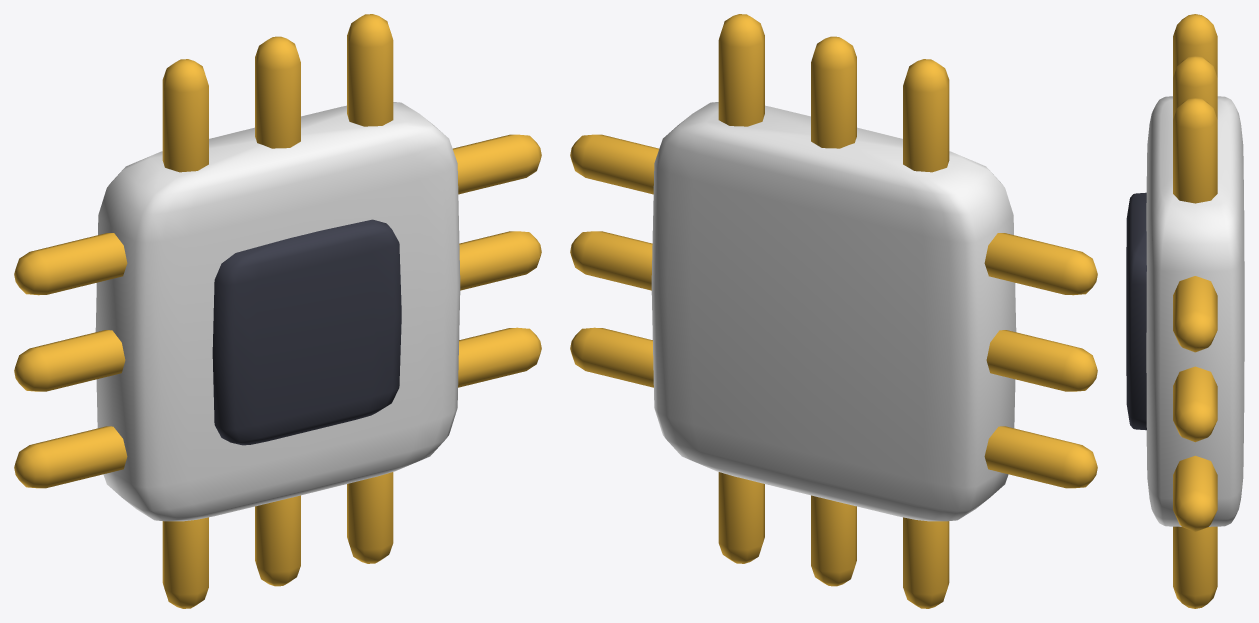
Rendered from chip.glb.
3 views of the same model, side by side, from view 1: azimuth 30°, elevation 25°; view 2: azimuth 150°, elevation 25°; view 3: azimuth 270°, elevation 25° (orthographic). The views are drawn at different scales.
Visible parts, largest first — view 1: chip; view 2: chip; view 3: chip.
Boxes of the visible parts, x1,y1,x2,y2 form: chip: [14, 14, 541, 608]; chip: [570, 14, 1097, 608]; chip: [1126, 14, 1244, 608].
Size of the model in its own units: 1 by 1 by 0.2121.
